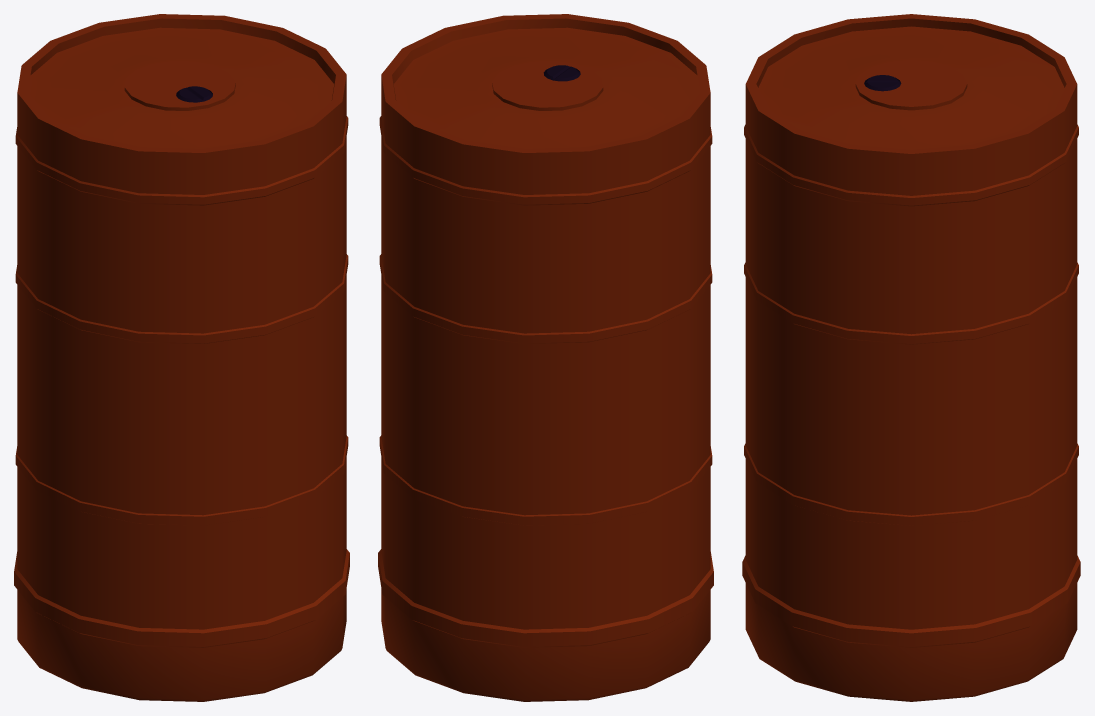
Rendered from gas3.glb.
3 views of the same model, side by side, from view 1: azimuth 30°, elevation 25°; view 2: azimuth 150°, elevation 25°; view 3: azimuth 270°, elevation 25° (orthographic).
Visible parts, largest first — view 1: Gas3; view 2: Gas3; view 3: Gas3.
Part boxes in pixels (<box>): Gas3: <box>14,14,349,701</box>; Gas3: <box>378,14,713,701</box>; Gas3: <box>742,14,1080,701</box>.
Bounding box in the file's own units: 1.75 × 3.17 × 1.75.
